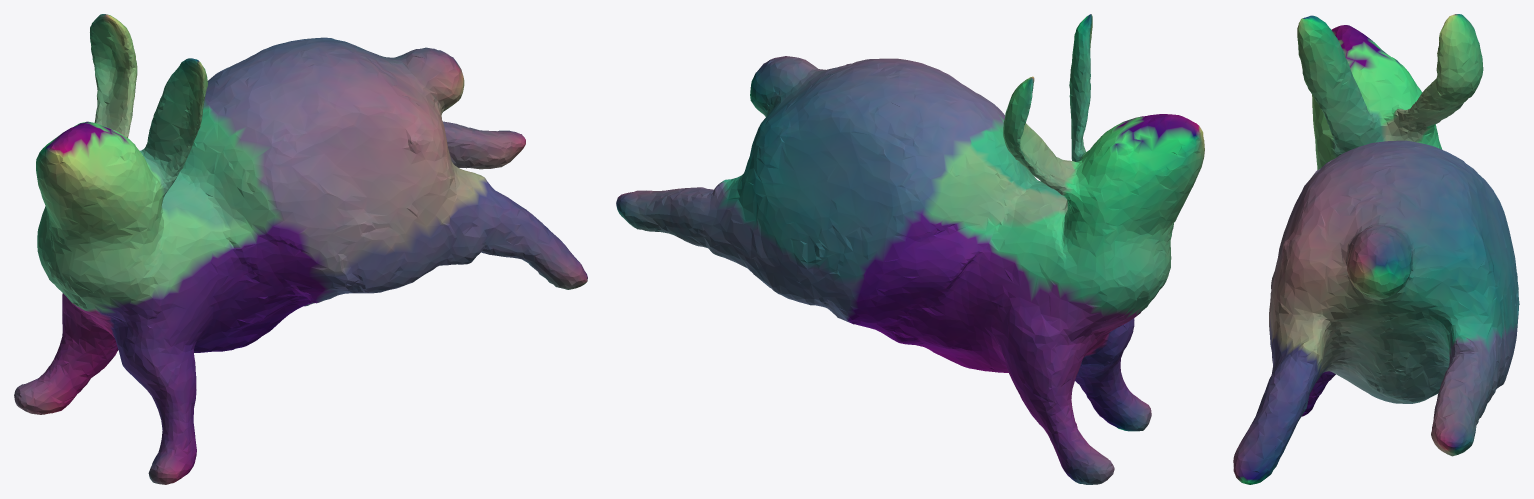
File: rabbit-1.off.obj
3 views of the same model, side by side, from view 1: azimuth 30°, elevation 25°; view 2: azimuth 150°, elevation 25°; view 3: azimuth 270°, elevation 25° (orthographic).
Bounding box in the file's own units: 1.55 × 1.14 × 0.7171.
